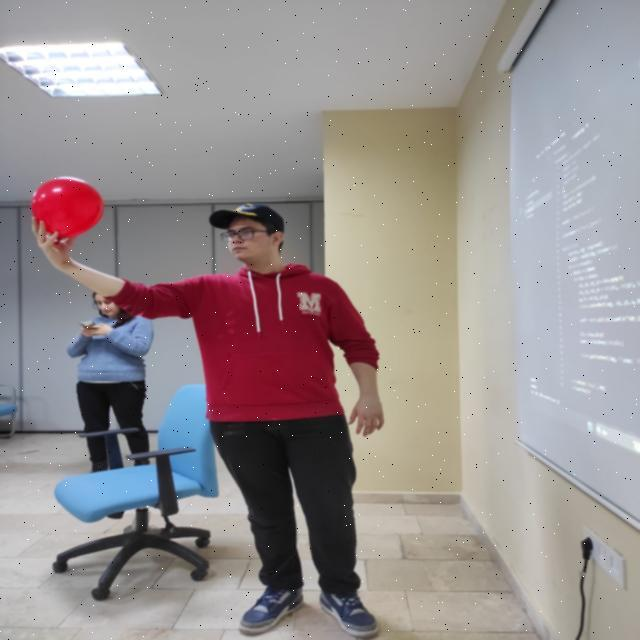red: (29, 175, 104, 242)
